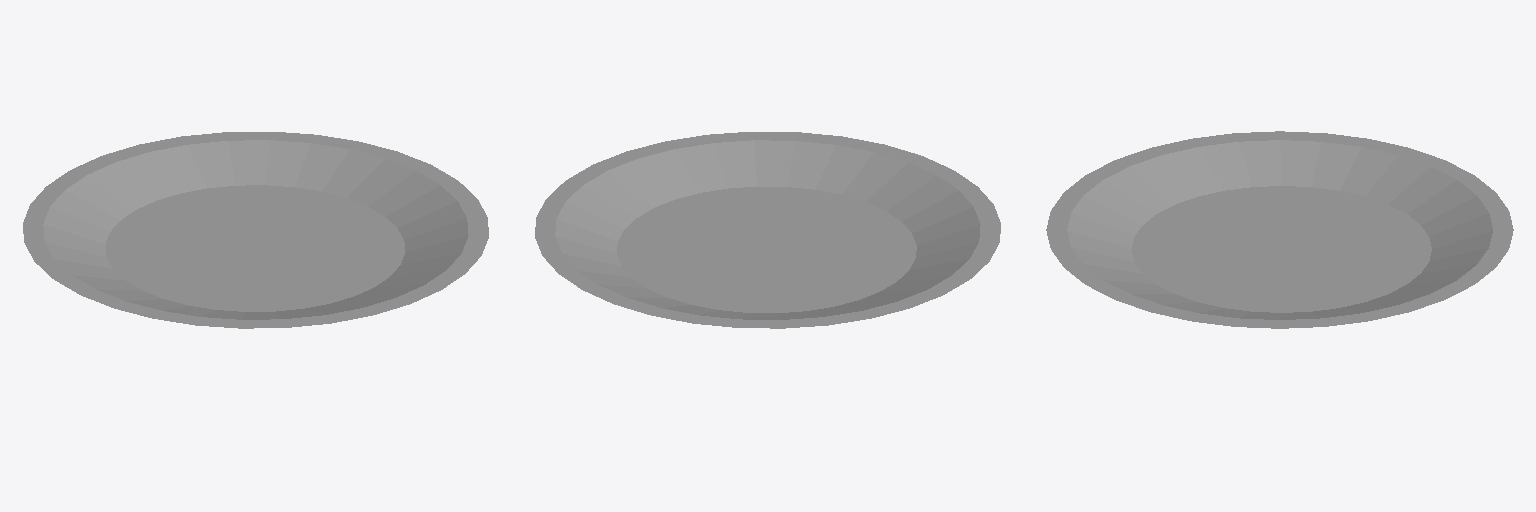
Rendered from bowl.obj.
The picture shows the model from 3 angles: view 1: azimuth 30°, elevation 25°; view 2: azimuth 150°, elevation 25°; view 3: azimuth 270°, elevation 25°; orthographic projection.
Visible parts, largest first — view 1: bowl_Circle, water_Circle.001; view 2: bowl_Circle, water_Circle.001; view 3: bowl_Circle, water_Circle.001.
Boxes of the visible parts, <box> form: bowl_Circle: <box>23,132,488,328</box>; water_Circle.001: <box>105,185,404,311</box>; bowl_Circle: <box>535,132,1000,328</box>; water_Circle.001: <box>617,187,916,312</box>; bowl_Circle: <box>1046,131,1513,328</box>; water_Circle.001: <box>1131,186,1431,312</box>.
Size of the model in its own units: 1.12 by 0.1373 by 1.12.